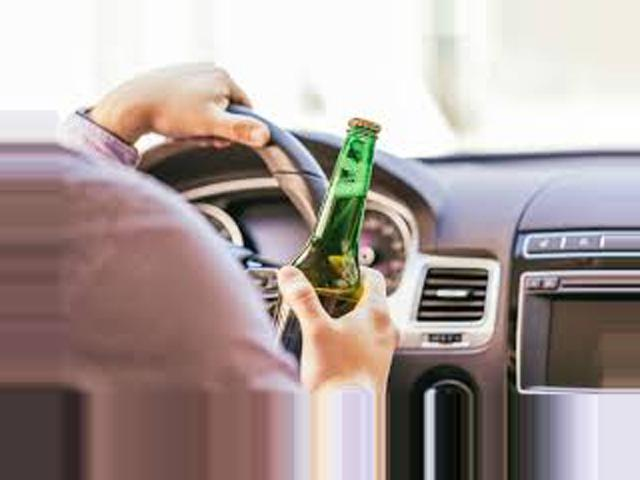beer: (268, 116, 382, 384)
